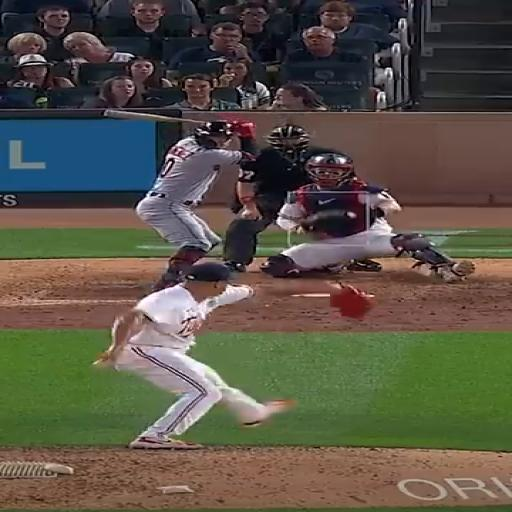bat: (103, 110, 204, 123)
